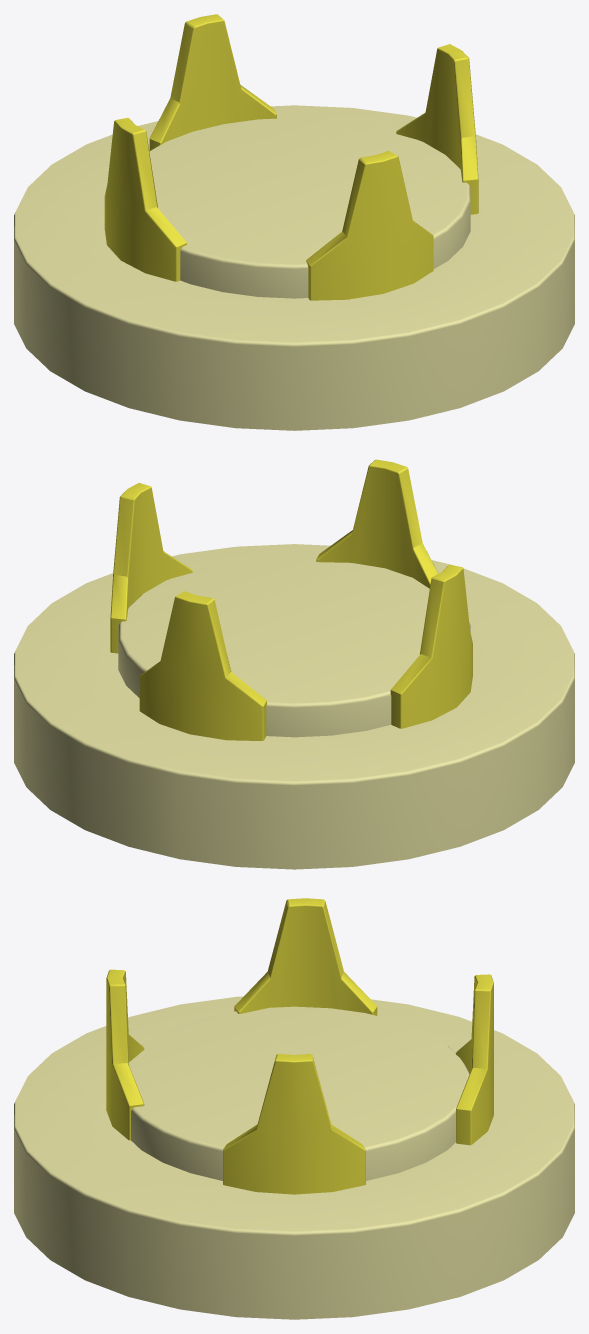
File: M_PowerupSocket.fbx
3 views of the same model, one above another, from view 1: azimuth 30°, elevation 25°; view 2: azimuth 150°, elevation 25°; view 3: azimuth 270°, elevation 25° (orthographic).
Parts seen in each view (by area): view 1: pCylinder70; view 2: pCylinder70; view 3: pCylinder70.
Boxes of the visible parts, bbox=[...] form: pCylinder70: bbox=[14, 14, 574, 430]; pCylinder70: bbox=[14, 459, 574, 869]; pCylinder70: bbox=[14, 898, 574, 1319].
Size of the model in its own units: 68.16 by 29.46 by 67.79.
